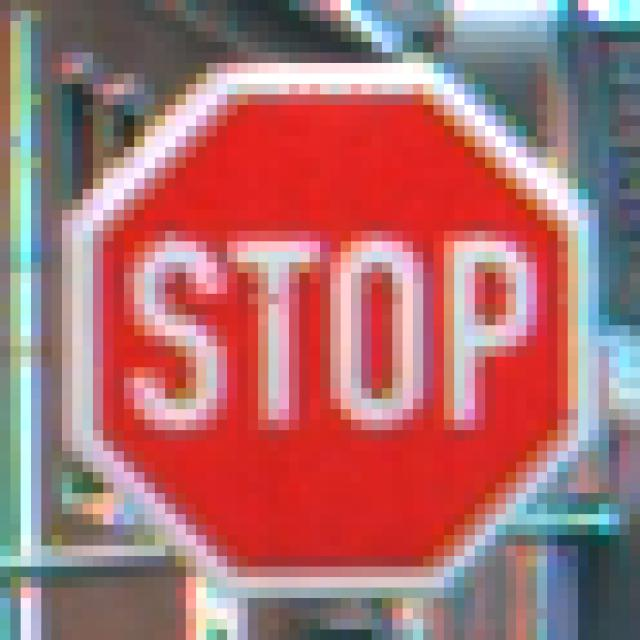STOP: (63, 54, 589, 578)
